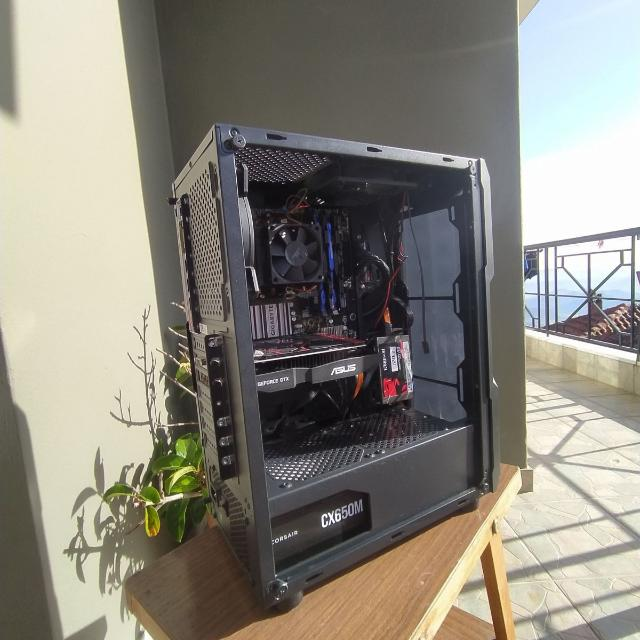Desktop-PC: (173, 132, 492, 580)
